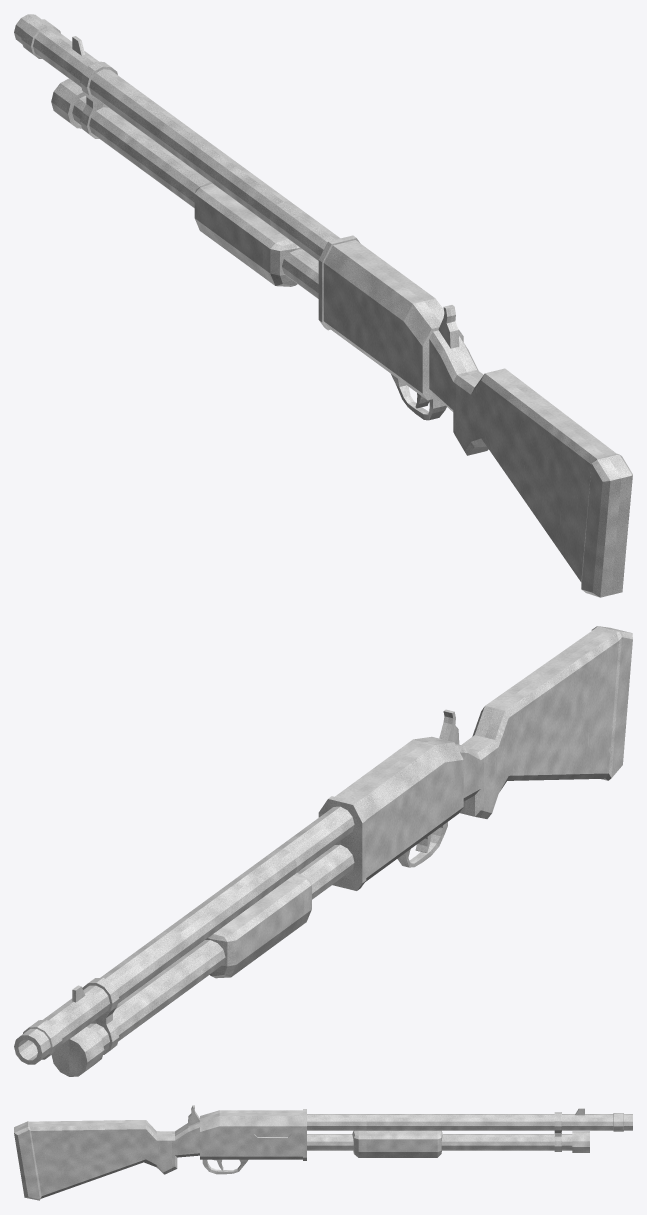
The model's file is shotgun2.obj.
The picture shows the model from 3 angles, top to bottom: view 1: azimuth 30°, elevation 25°; view 2: azimuth 150°, elevation 25°; view 3: azimuth 270°, elevation 25°; orthographic projection. The views are drawn at different scales.
Parts seen in each view (by area): view 1: Shotgun_3_Cube.022; view 2: Shotgun_3_Cube.022; view 3: Shotgun_3_Cube.022.
Boxes of the visible parts, box(x1,y1,x2,y2) form: Shotgun_3_Cube.022: box(14, 14, 632, 597); Shotgun_3_Cube.022: box(14, 626, 632, 1076); Shotgun_3_Cube.022: box(14, 1105, 632, 1200).
Size of the model in its own units: 0.0542 by 0.2074 by 1.27.
4 materials, 4 textured.
